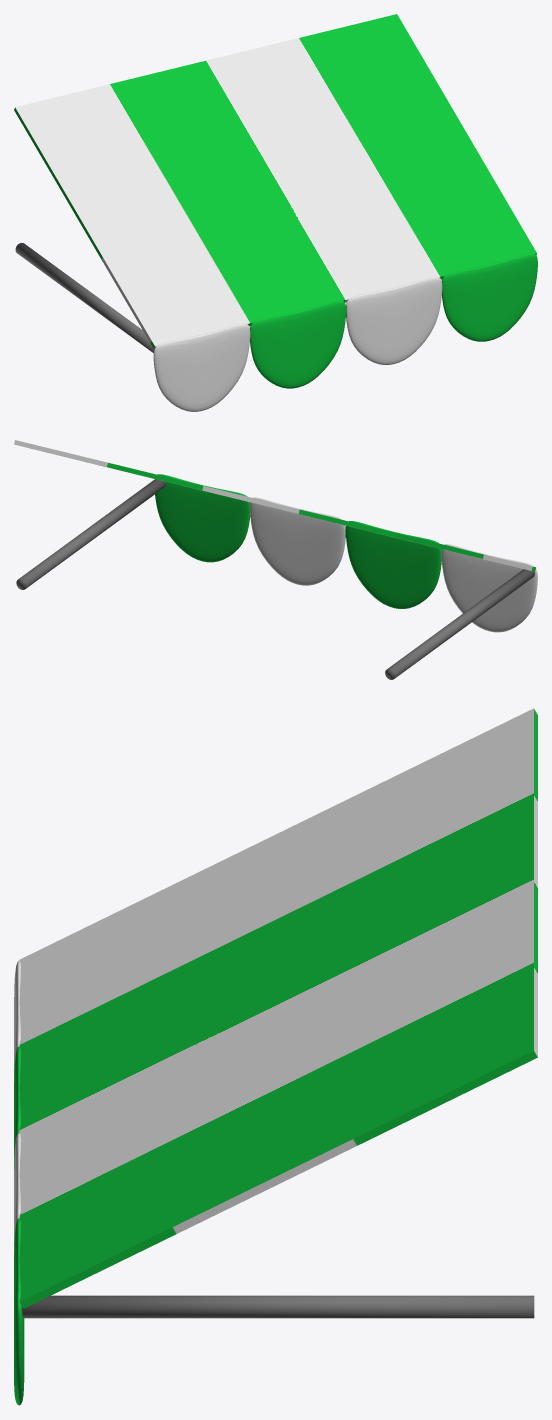
The model's file is Awning.fbx.
3 views of the same model, one above another, from view 1: azimuth 30°, elevation 25°; view 2: azimuth 150°, elevation 25°; view 3: azimuth 270°, elevation 25° (orthographic). The views are drawn at different scales.
Parts seen in each view (by area): view 1: Fabric; view 2: Fabric; view 3: Fabric.
Boxes of the visible parts, x1,y1,x2,y2 form: Fabric: (14,14,537,411); Fabric: (14,440,537,679); Fabric: (14,708,537,1405).
Bounding box in the file's own units: 279 × 147 × 179.
